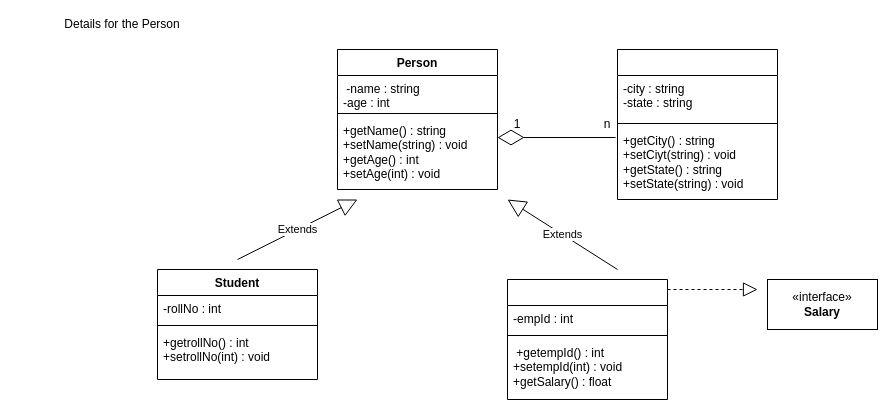
Some shapes in this 895 by 419 pixel diagram are drawn without their labels. Here are the shapes that lost their labels. From the top down, the box of each, then its label:
(616, 48, 778, 200): Address
(506, 278, 668, 400): Teacher
